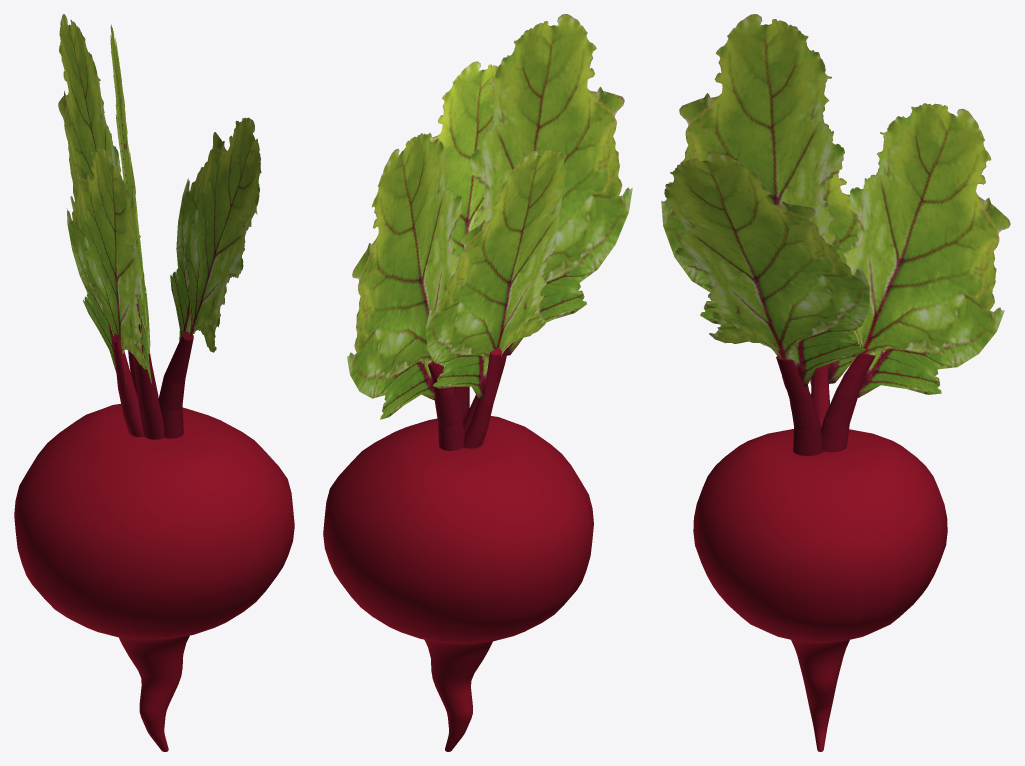
Rendered from radish.glb.
3 views of the same model, side by side, from view 1: azimuth 30°, elevation 25°; view 2: azimuth 150°, elevation 25°; view 3: azimuth 270°, elevation 25° (orthographic). The views are drawn at different scales.
Visible parts, largest first — view 1: pSphere1, pPlane4, pPlane3, pPlane1, pPlane2, polySurface2, polySurface3, polySurface4; view 2: pSphere1, pPlane2, pPlane1, pPlane3, pPlane4, polySurface1, polySurface4; view 3: pSphere1, pPlane1, pPlane4, pPlane2, polySurface1, polySurface2, pPlane3, polySurface4.
Boxes of the visible parts, bbox=[...] form: pSphere1: bbox=[14, 404, 294, 751]; pPlane4: bbox=[170, 117, 261, 370]; pPlane3: bbox=[66, 148, 147, 389]; pPlane1: bbox=[58, 14, 144, 276]; pPlane2: bbox=[110, 24, 151, 383]; polySurface2: bbox=[158, 331, 193, 438]; polySurface3: bbox=[134, 303, 164, 439]; polySurface4: bbox=[113, 333, 144, 436]; pSphere1: bbox=[323, 416, 593, 751]; pPlane2: bbox=[452, 14, 632, 355]; pPlane1: bbox=[347, 133, 462, 419]; pPlane3: bbox=[425, 149, 566, 399]; pPlane4: bbox=[429, 61, 497, 268]; polySurface1: bbox=[428, 361, 464, 450]; polySurface4: bbox=[463, 348, 501, 448]; pSphere1: bbox=[693, 429, 947, 751]; pPlane1: bbox=[840, 103, 1010, 397]; pPlane4: bbox=[662, 152, 869, 388]; pPlane2: bbox=[661, 14, 844, 355]; polySurface1: bbox=[821, 352, 875, 452]; polySurface2: bbox=[776, 356, 822, 455]; pPlane3: bbox=[810, 170, 858, 384]; polySurface4: bbox=[811, 364, 829, 428].
Size of the model in its own units: 4.88 by 14.35 by 6.5.
5 materials, 1 textured.
